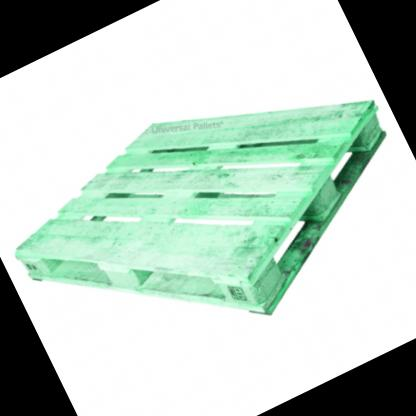BoxFace: (13, 98, 393, 321)
